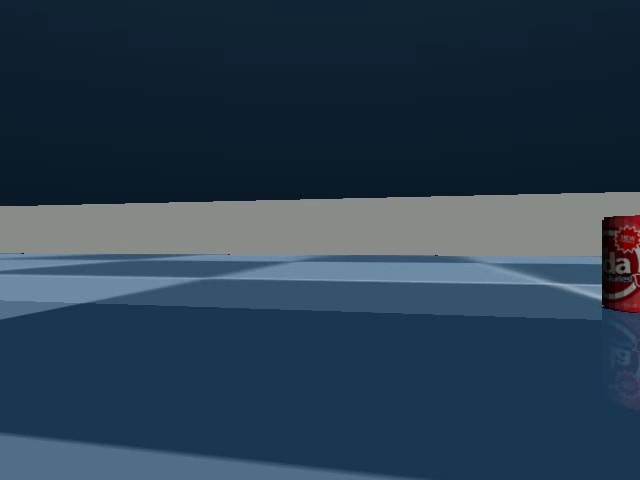can: (596, 209, 640, 320)
